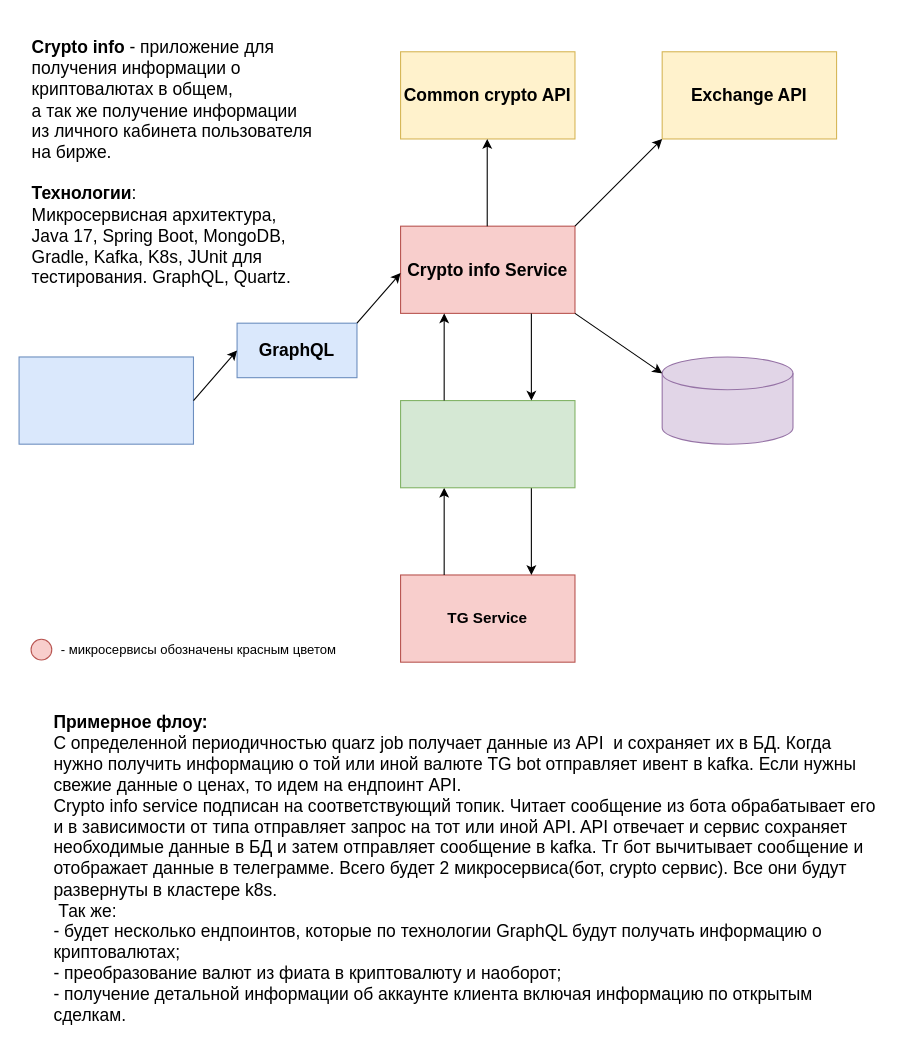
Image size: 899x1044. Some labels were removed from this diagram. The centre of each missing label's shape, as x and y in pixels:
"API endpoints" goes at (105,400).
"Database" goes at (727,400).
"Kafka" goes at (487,443).
